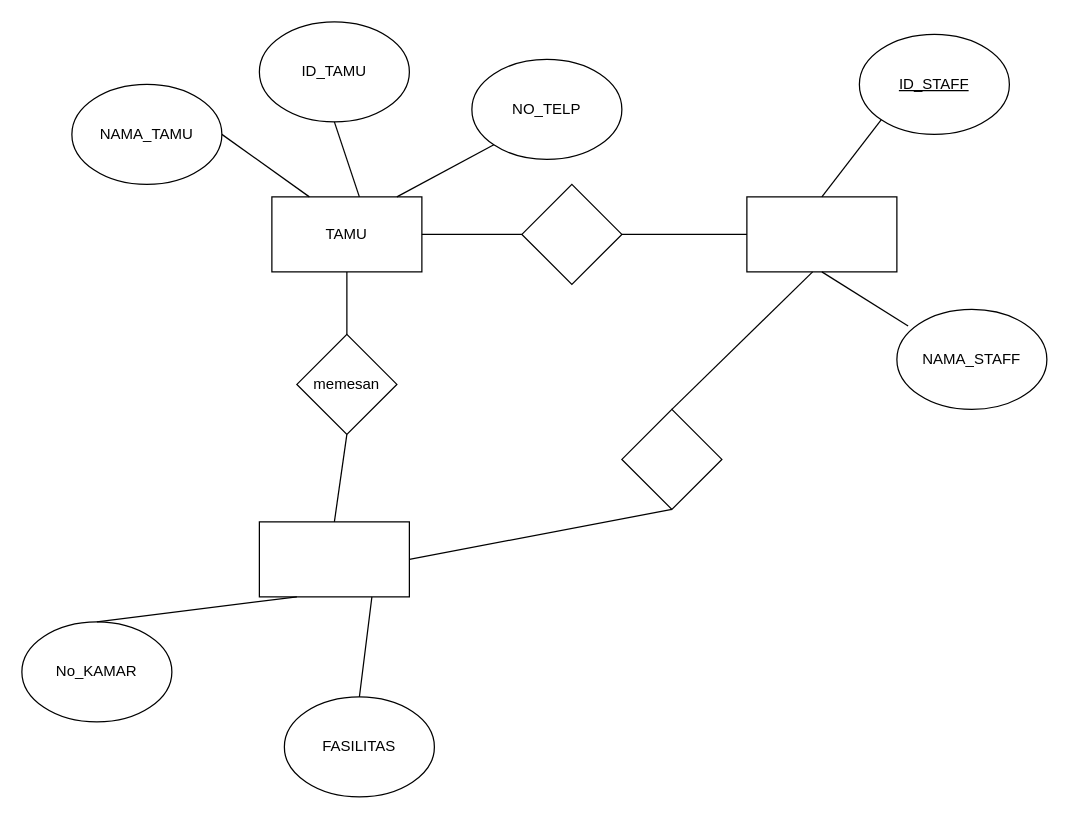
Some shapes in this 1069 by 819 pixel diagram are drawn without their labels. Each missing label, with the centre of its shape:
"BOOK" goes at pixel 571 233.
"FRONT OFFICE" goes at pixel 821 234.
"KAMAR" goes at pixel 333 559.
